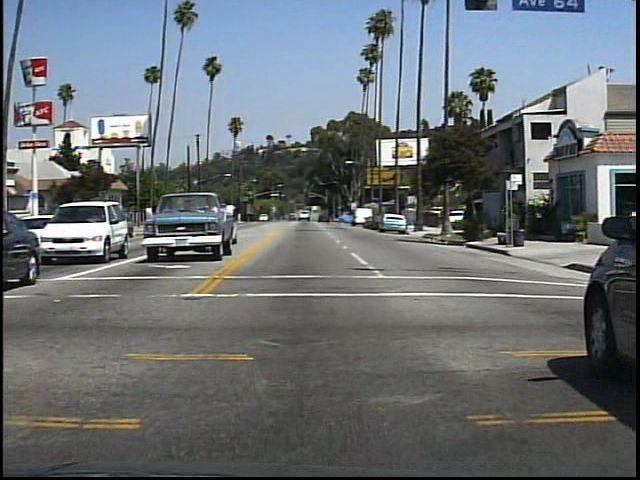person: (478, 199, 500, 245)
